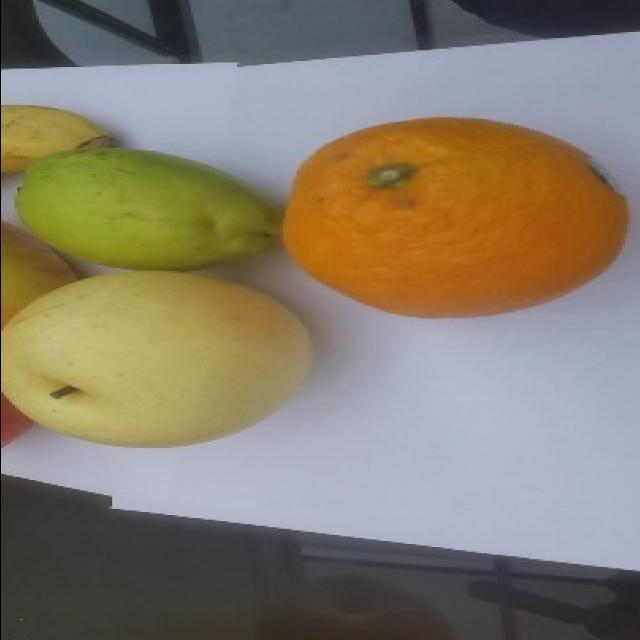Apple: (0, 220, 78, 329)
Banana: (0, 103, 115, 175)
Orange: (281, 115, 629, 318)
